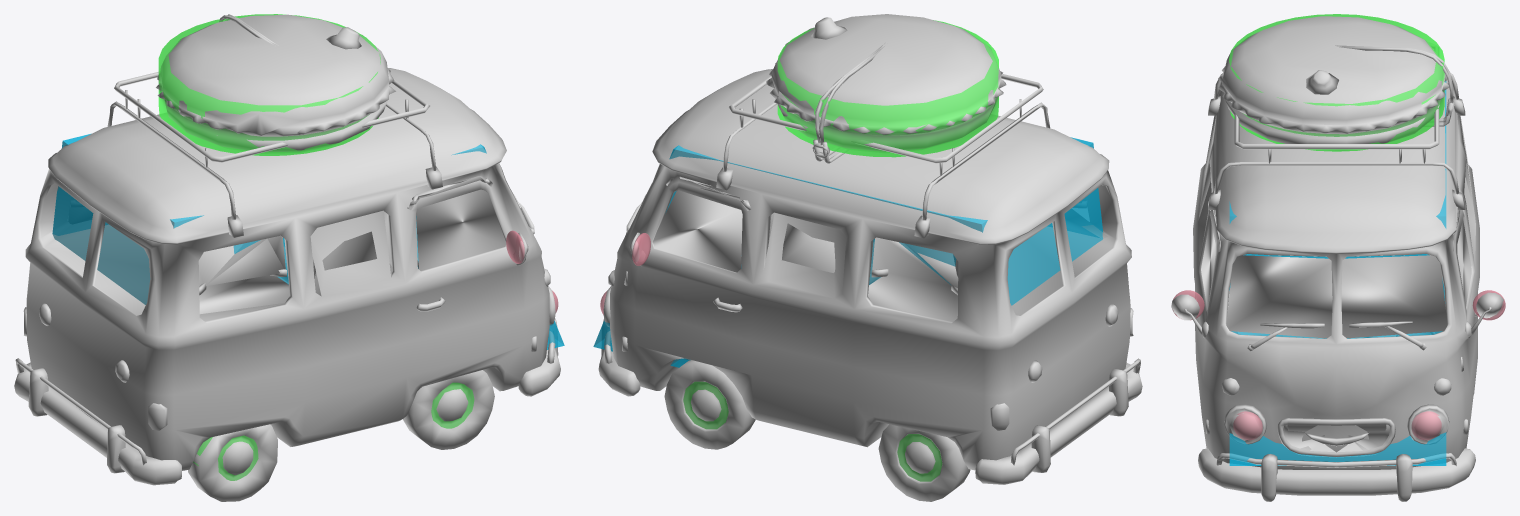
File: car_shape.glb
3 views of the same model, side by side, from view 1: azimuth 30°, elevation 25°; view 2: azimuth 150°, elevation 25°; view 3: azimuth 270°, elevation 25° (orthographic). The views are drawn at different scales.
Parts seen in each view (by area): view 1: tripo_node_65bd8d32-e5aa-4614-8569-84f9eec449df, Cylinder.004, Cube, Cylinder, Cylinder.001; view 2: tripo_node_65bd8d32-e5aa-4614-8569-84f9eec449df, Cylinder.004, Cube, Cylinder.002, Cylinder.003; view 3: tripo_node_65bd8d32-e5aa-4614-8569-84f9eec449df, Cube, Cylinder.004, Sphere.001, Sphere.
Boxes of the visible parts, x1=… form: tripo_node_65bd8d32-e5aa-4614-8569-84f9eec449df: x1=14, y1=14, x2=560, y2=501; Cylinder.004: x1=158, y1=14, x2=380, y2=155; Cube: x1=52, y1=133, x2=564, y2=349; Cylinder: x1=431, y1=382, x2=474, y2=428; Cylinder.001: x1=193, y1=435, x2=258, y2=480; tripo_node_65bd8d32-e5aa-4614-8569-84f9eec449df: x1=598, y1=14, x2=1142, y2=501; Cylinder.004: x1=777, y1=20, x2=998, y2=157; Cube: x1=593, y1=137, x2=1103, y2=367; Cylinder.002: x1=683, y1=381, x2=728, y2=429; Cylinder.003: x1=897, y1=434, x2=942, y2=481; tripo_node_65bd8d32-e5aa-4614-8569-84f9eec449df: x1=1171, y1=16, x2=1504, y2=501; Cube: x1=1229, y1=81, x2=1446, y2=465; Cylinder.004: x1=1229, y1=14, x2=1444, y2=151; Sphere.001: x1=1411, y1=411, x2=1441, y2=440; Sphere: x1=1233, y1=411, x2=1262, y2=440.
Bounding box in the file's own units: 0.998 × 0.8262 × 0.6602.
